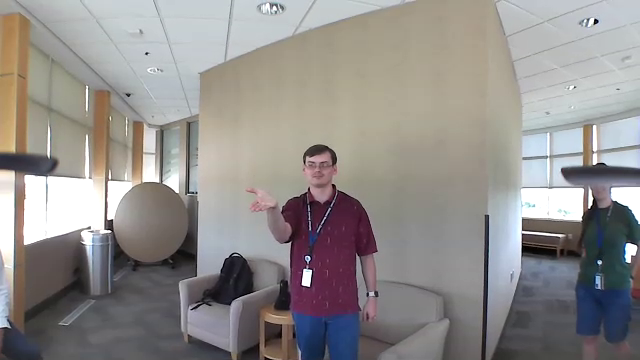land: (240, 185, 282, 214)
